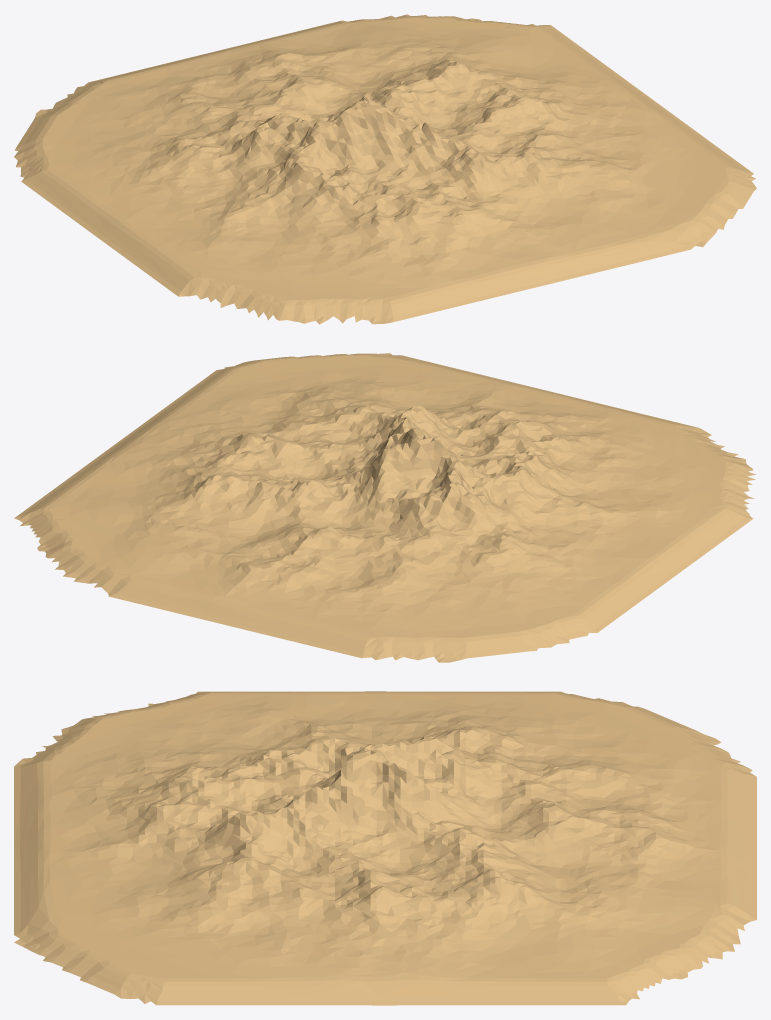
File: MT_Island_L_f_05.fbx
The picture shows the model from 3 angles, top to bottom: view 1: azimuth 30°, elevation 25°; view 2: azimuth 150°, elevation 25°; view 3: azimuth 270°, elevation 25°; orthographic projection. The views are drawn at different scales.
Parts seen in each view (by area): view 1: MT_Island_L_f_05; view 2: MT_Island_L_f_05; view 3: MT_Island_L_f_05.
Boxes of the visible parts, x1=… form: MT_Island_L_f_05: x1=14, y1=14, x2=756, y2=324; MT_Island_L_f_05: x1=14, y1=353, x2=756, y2=662; MT_Island_L_f_05: x1=14, y1=691, x2=756, y2=1005.
Bounding box in the file's own units: 19688 × 2504 × 19688.
